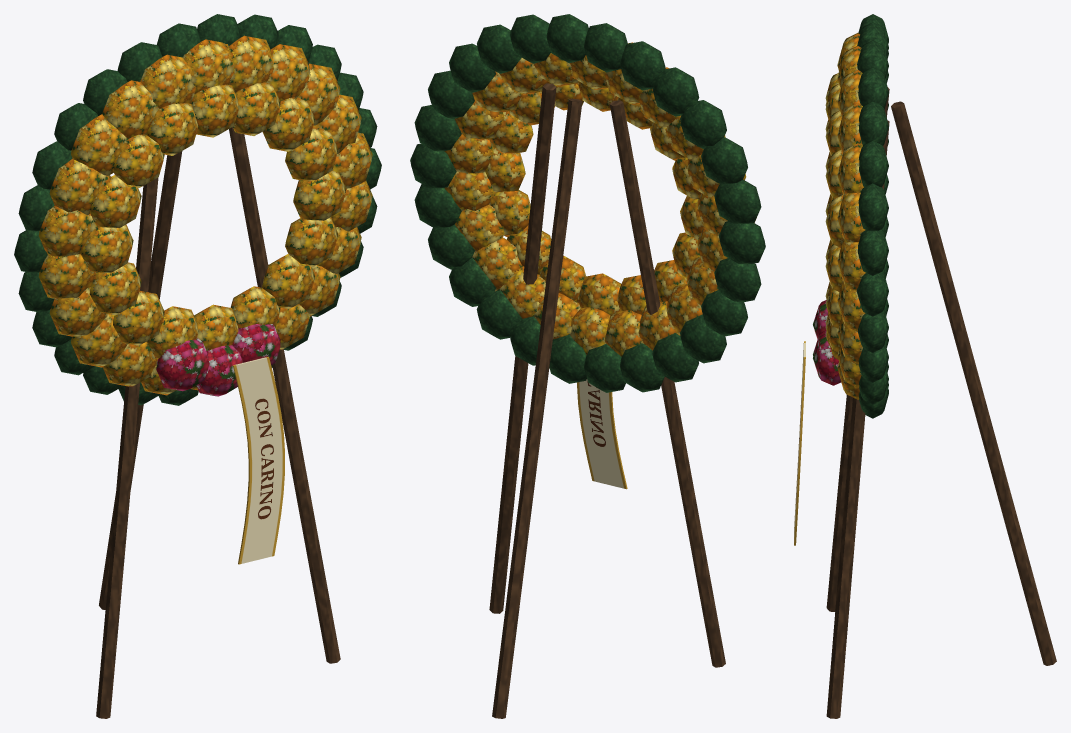
Rendered from corona_amarilla.obj.
3 renders of one model, left to right at view 1: azimuth 30°, elevation 25°; view 2: azimuth 150°, elevation 25°; view 3: azimuth 270°, elevation 25°, orthographic. The views are drawn at different scales.
Visible parts, largest first — view 1: Liston, Cylinder.001, Cylinder, Cylinder.002, Flores.033, Flores.034, Flores.035, Flores.036, Flores.032, Flores.066, Flores.061, Flores.062 (+46 smaller); view 2: Cylinder.002, Cylinder, Cylinder.001, Liston, Flores.010, Flores.011, Flores.008, Flores.009, Flores.012, Flores.007, Flores.013, Flores.006 (+54 smaller); view 3: Cylinder.002, Cylinder.001, Cylinder, Flores.002, Flores.001, Flores.003, Flores, Flores.004, Flores.027, Flores.025, Flores.028, Flores.005 (+18 smaller).
Boxes of the visible parts, <box> form: Liston: <box>233,357,284,564</box>; Cylinder.001: <box>229,127,340,663</box>; Cylinder: <box>96,177,158,718</box>; Cylinder.002: <box>99,151,182,609</box>; Flores.033: <box>102,80,159,138</box>; Flores.034: <box>71,114,128,175</box>; Flores.035: <box>49,159,110,214</box>; Flores.036: <box>38,206,96,256</box>; Flores.032: <box>140,54,195,108</box>; Flores.066: <box>156,338,209,391</box>; Flores.061: <box>262,254,314,308</box>; Flores.062: <box>285,217,337,267</box>; Cylinder.002: <box>492,98,582,718</box>; Cylinder: <box>609,100,725,667</box>; Cylinder.001: <box>489,83,556,613</box>; Liston: <box>577,379,627,489</box>; Flores.010: <box>680,100,726,149</box>; Flores.011: <box>701,137,747,184</box>; Flores.008: <box>620,41,665,90</box>; Flores.009: <box>652,67,699,116</box>; Flores.012: <box>714,179,761,223</box>; Flores.007: <box>584,23,627,72</box>; Flores.013: <box>718,221,765,264</box>; Flores.006: <box>546,14,588,63</box>; Cylinder.002: <box>891,101,1056,665</box>; Cylinder.001: <box>826,120,889,718</box>; Cylinder: <box>826,87,889,611</box>; Flores.002: <box>858,183,888,230</box>; Flores.001: <box>858,229,888,275</box>; Flores.003: <box>859,141,888,187</box>; Flores: <box>856,271,888,316</box>; Flores.004: <box>858,101,888,145</box>; Flores.027: <box>837,193,865,242</box>; Flores.025: <box>858,310,888,352</box>; Flores.028: <box>837,143,863,195</box>; Flores.005: <box>858,67,888,109</box>.
Bounding box in the file's own units: 0.83 × 1.42 × 0.5336.
5 materials, 5 textured.
